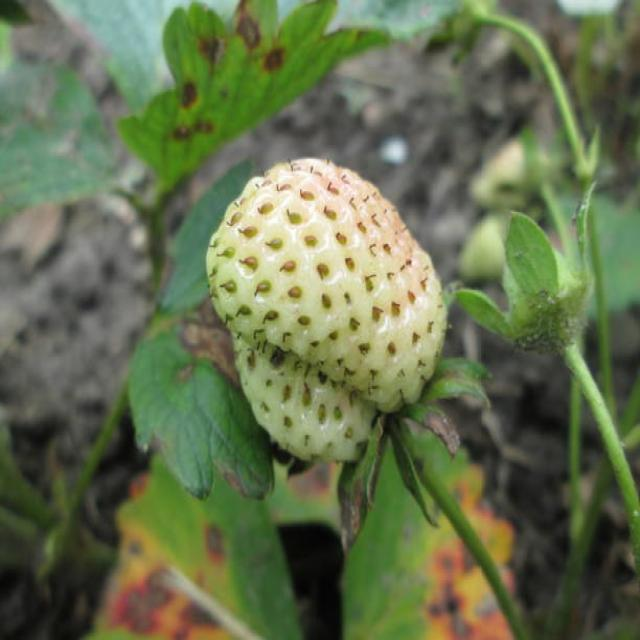Healthy Fruit: (205, 158, 447, 466)
